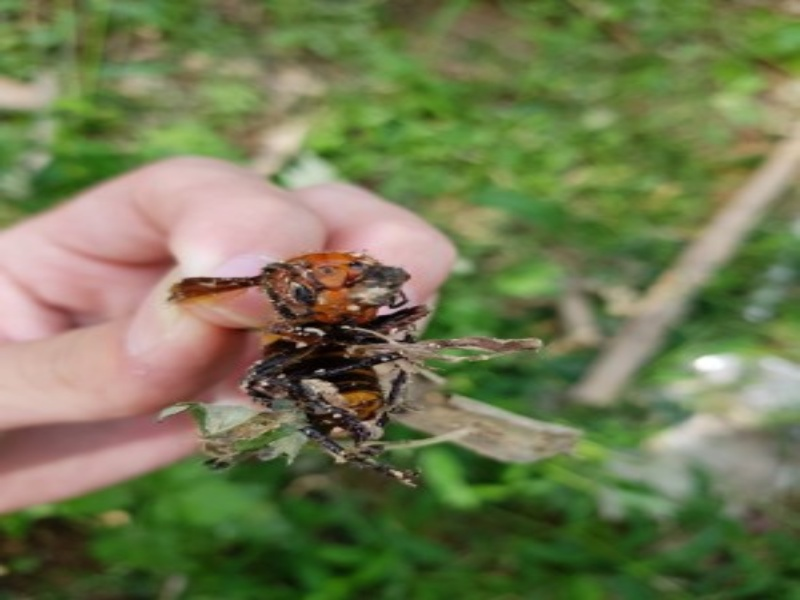asian_giant_hornet: (240, 252, 437, 459)
